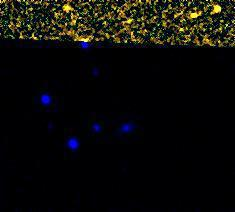star: (53, 0, 83, 22)
